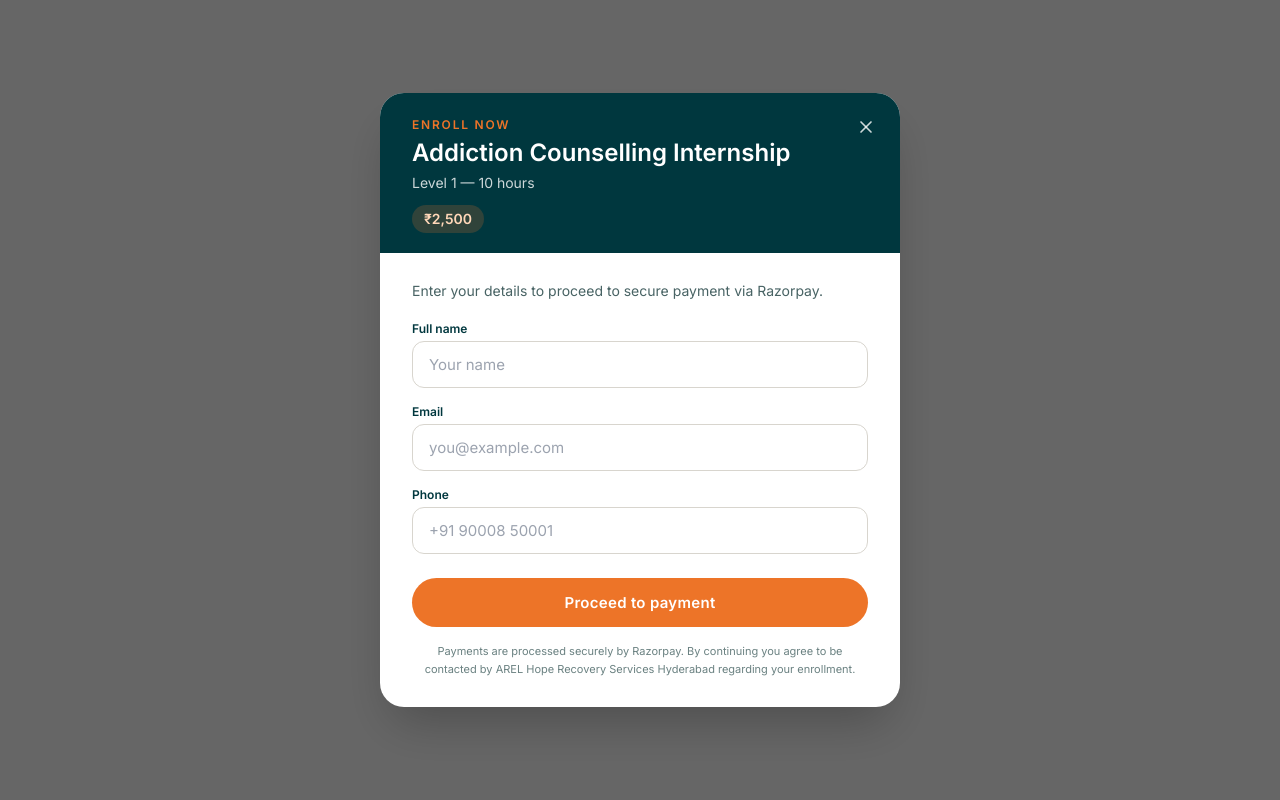
Scenario: EnrollmentModal › shows validation error for invalid phone
Type "John Doe" into the field labelled "Full name" at (640, 365), box [412, 341, 868, 388]
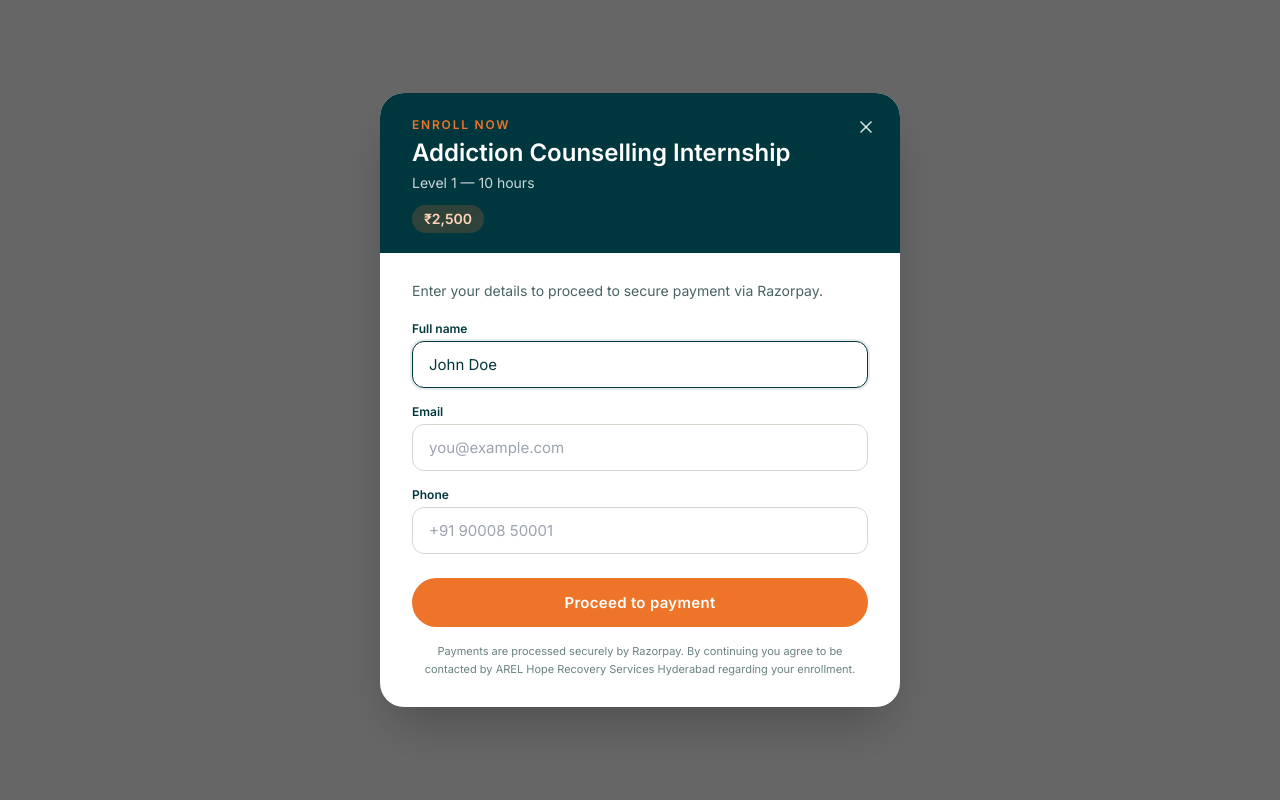
Type "john@test.com" into the field labelled "Email" at (640, 448), box [412, 424, 868, 471]
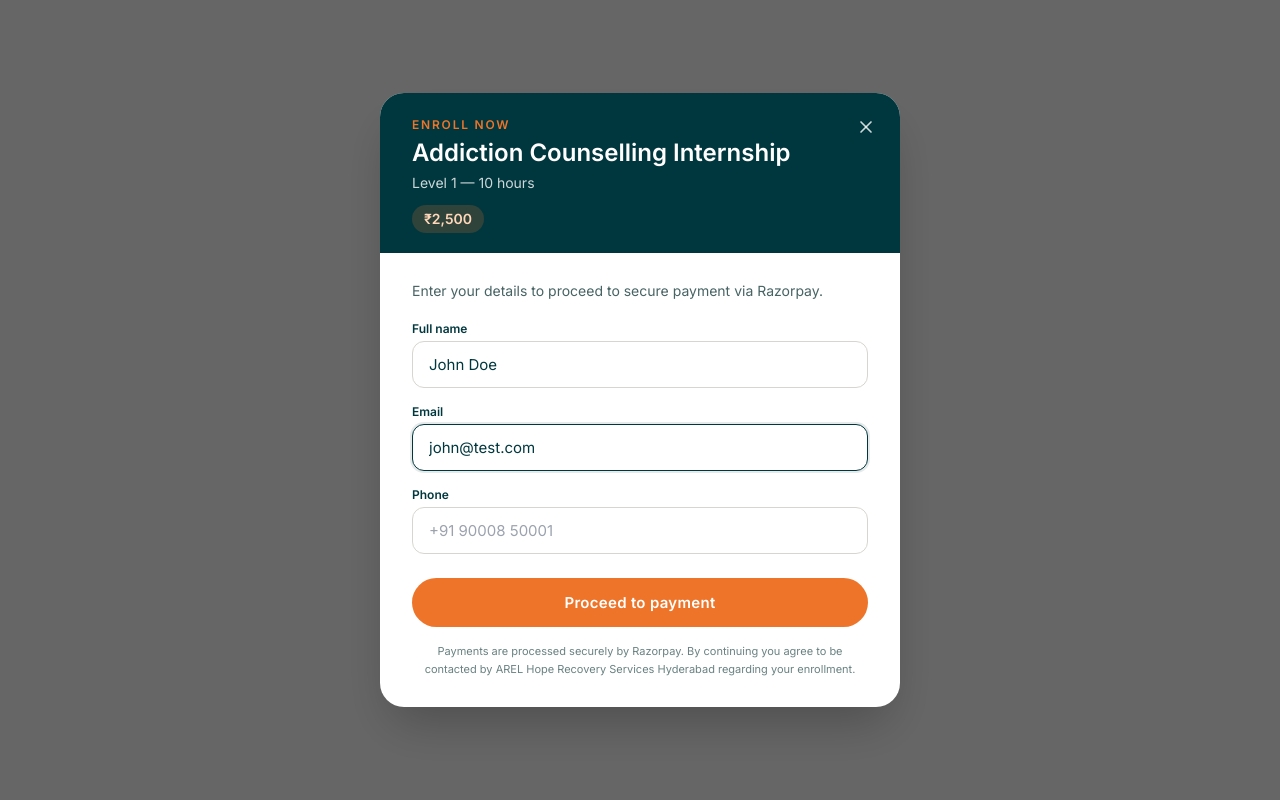
Type "abc" into the field labelled "Phone" at (640, 531), box [412, 507, 868, 554]
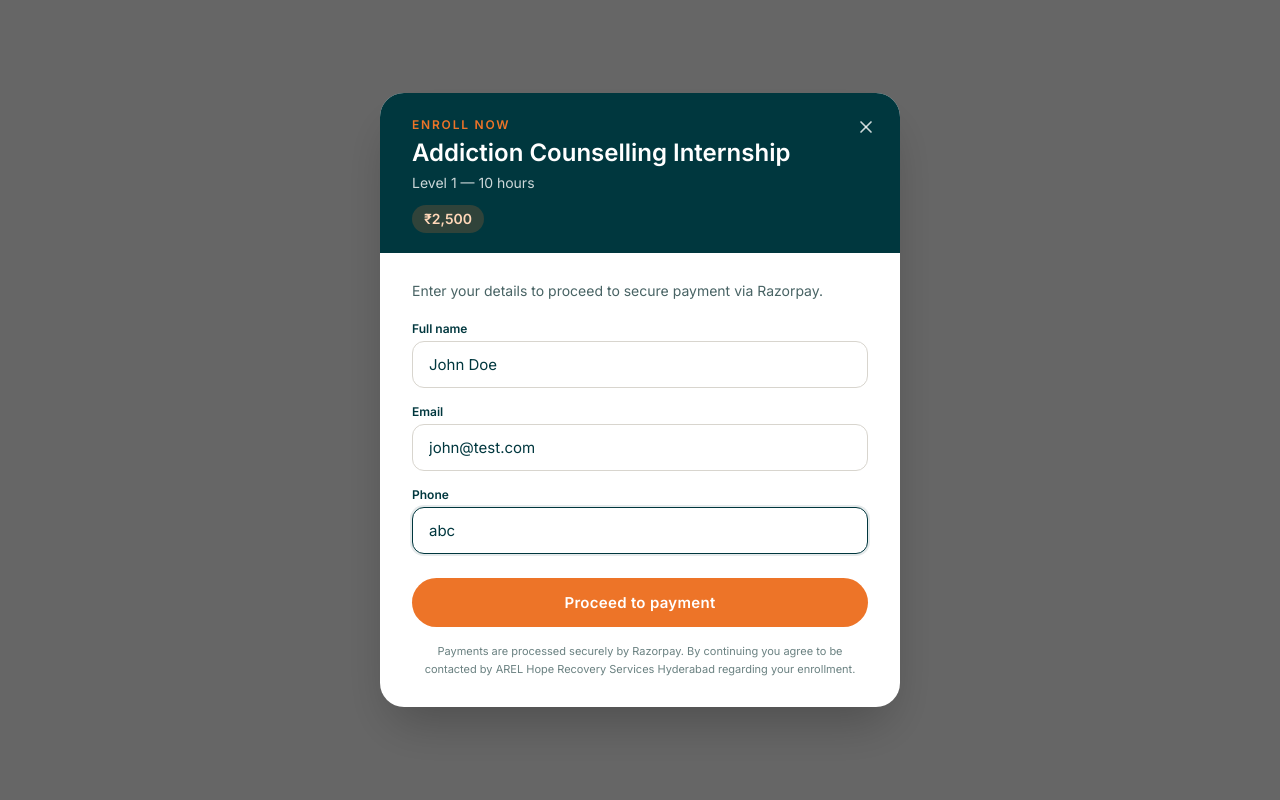
Click the button "Proceed to payment" at (640, 603), box [412, 578, 868, 627]
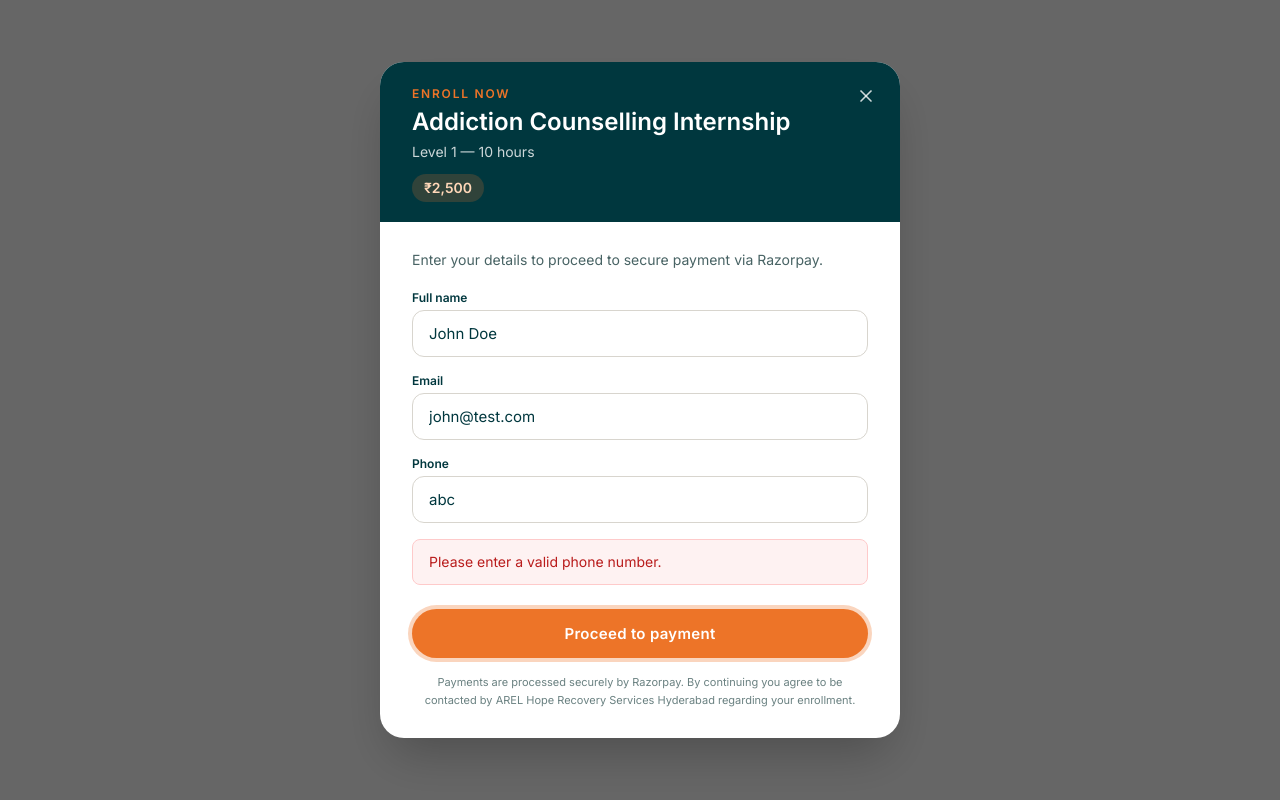
Result: the message reads "Please enter a valid phone number." at [429, 553, 662, 570]
